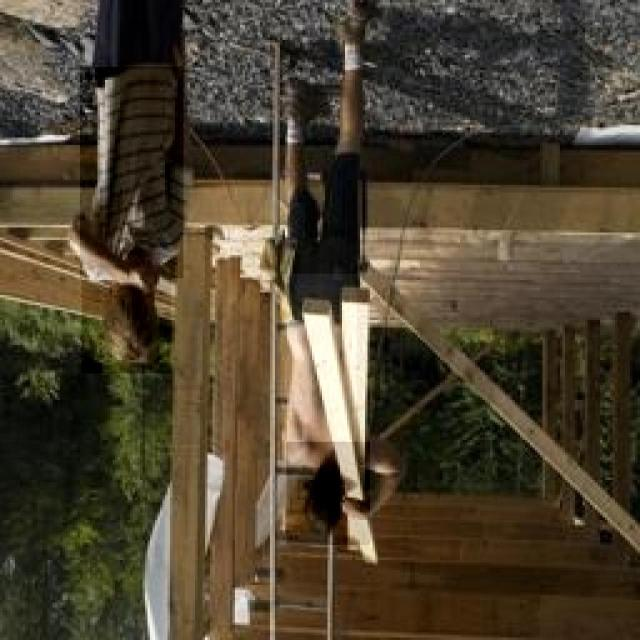Helmet: (80, 67, 184, 278), (282, 274, 357, 473), (82, 268, 172, 374), (286, 442, 370, 545)
